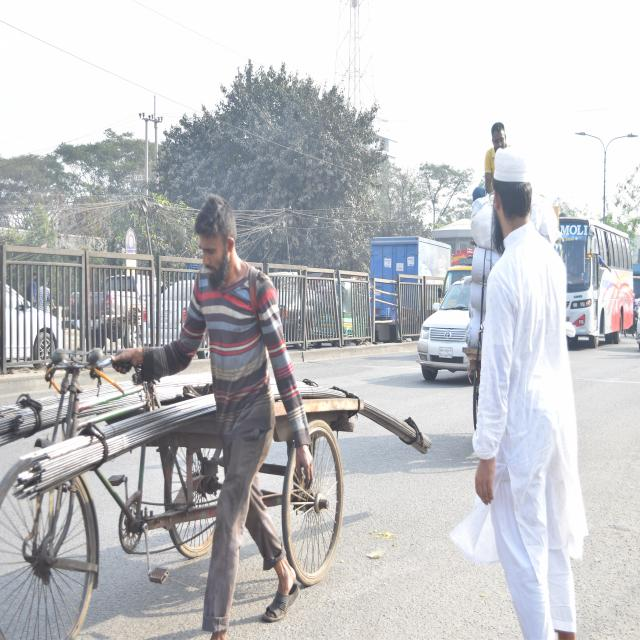bus: (556, 207, 636, 348)
car: (416, 277, 480, 382)
pickup-van: (364, 233, 448, 339)
